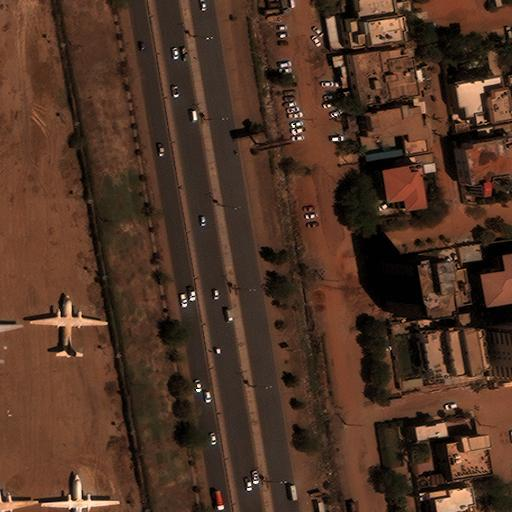Military Transport: (30, 295, 109, 358), (41, 472, 120, 512), (0, 482, 38, 512)
